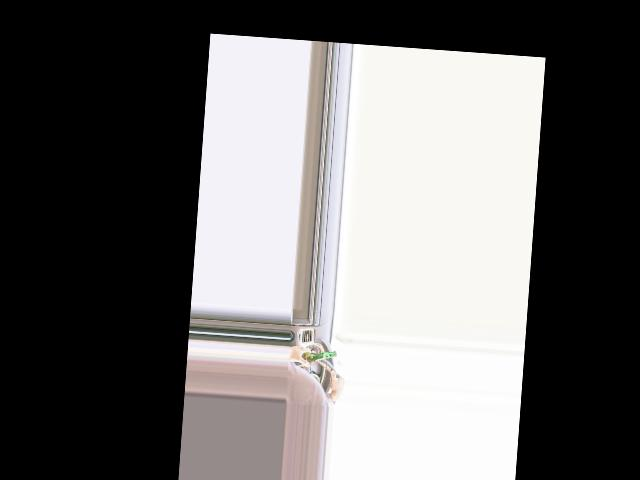beer: (291, 347, 337, 369)
